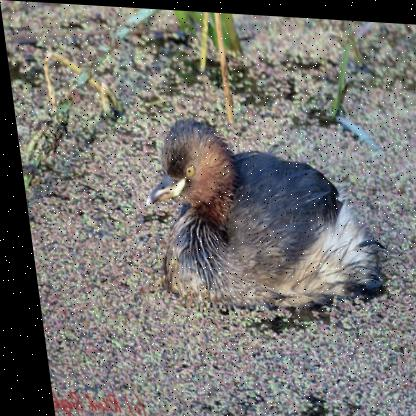Burung: (131, 114, 380, 311)
